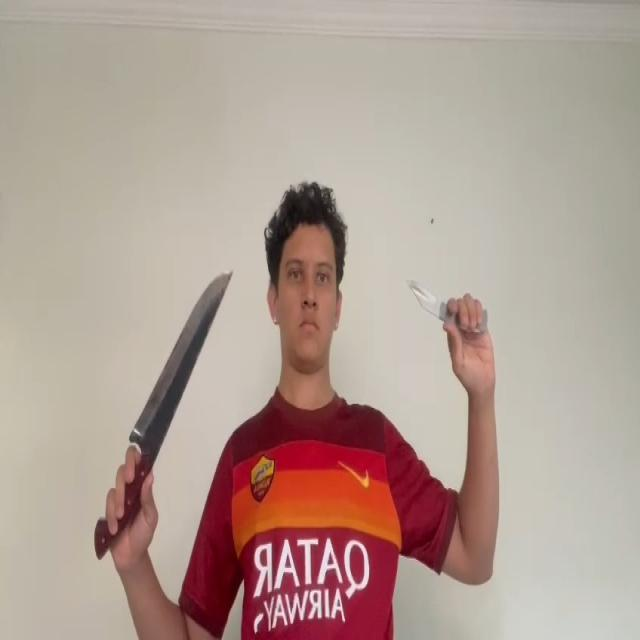knife: (129, 271, 234, 439), (406, 280, 440, 316)
